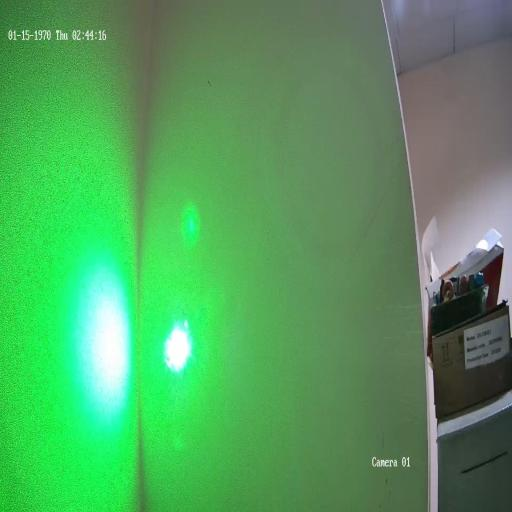laser: (155, 304, 196, 379)
